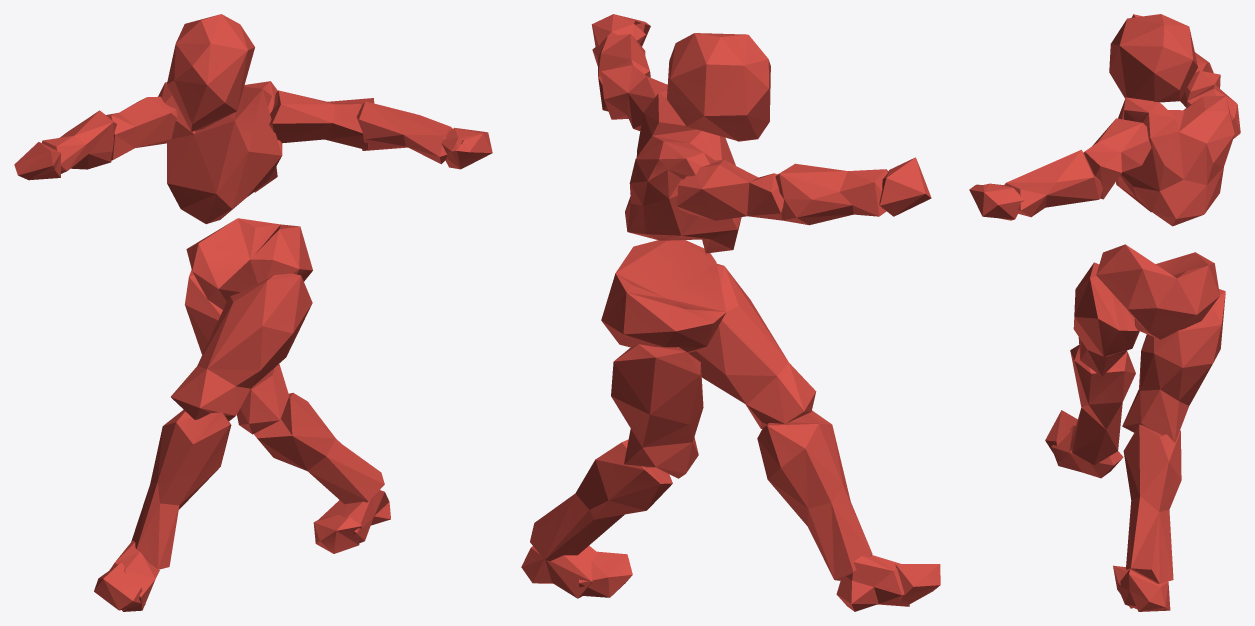
File: 2dancer0206.obj
3 renders of one model, left to right at view 1: azimuth 30°, elevation 25°; view 2: azimuth 150°, elevation 25°; view 3: azimuth 270°, elevation 25°, orthographic. The views are drawn at different scales.
Visible parts, largest first — view 1: Beta_Surface; view 2: Beta_Surface; view 3: Beta_Surface.
Part boxes in pixels (bbox=[...]): Beta_Surface: bbox=[14, 14, 492, 611]; Beta_Surface: bbox=[521, 14, 940, 611]; Beta_Surface: bbox=[969, 14, 1240, 611].
Size of the model in its own units: 1.28 by 1.73 by 0.8024.
